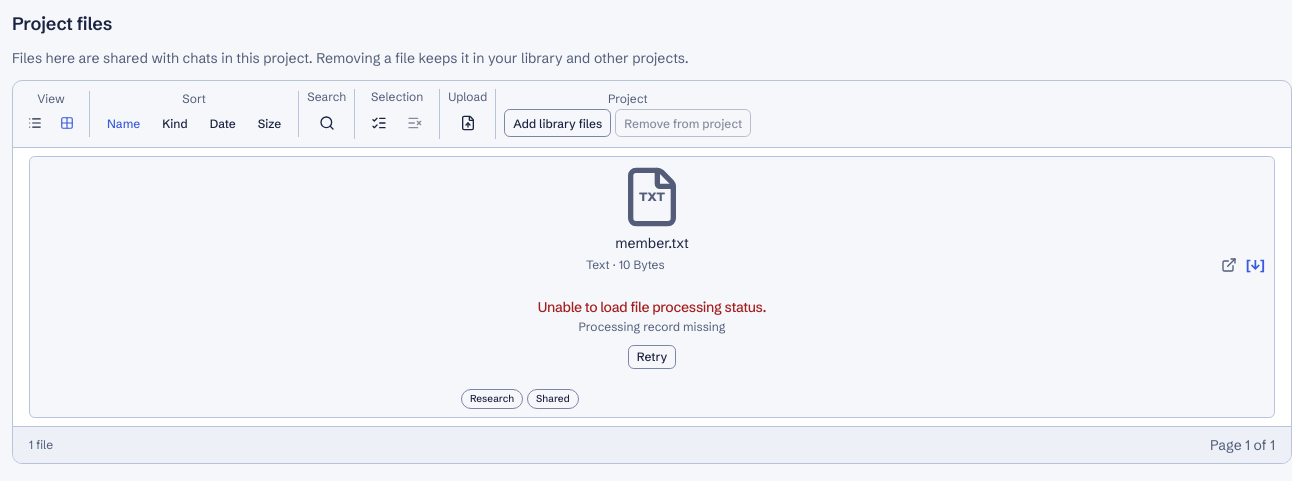
it: preserves project links and removal controls when a processing record is missing
expect the message shows "Unable to load file processing status": met, box [538,298,766,316]
Click the button "member.txt".
click(104, 287)  # box [29,156,1275,418]
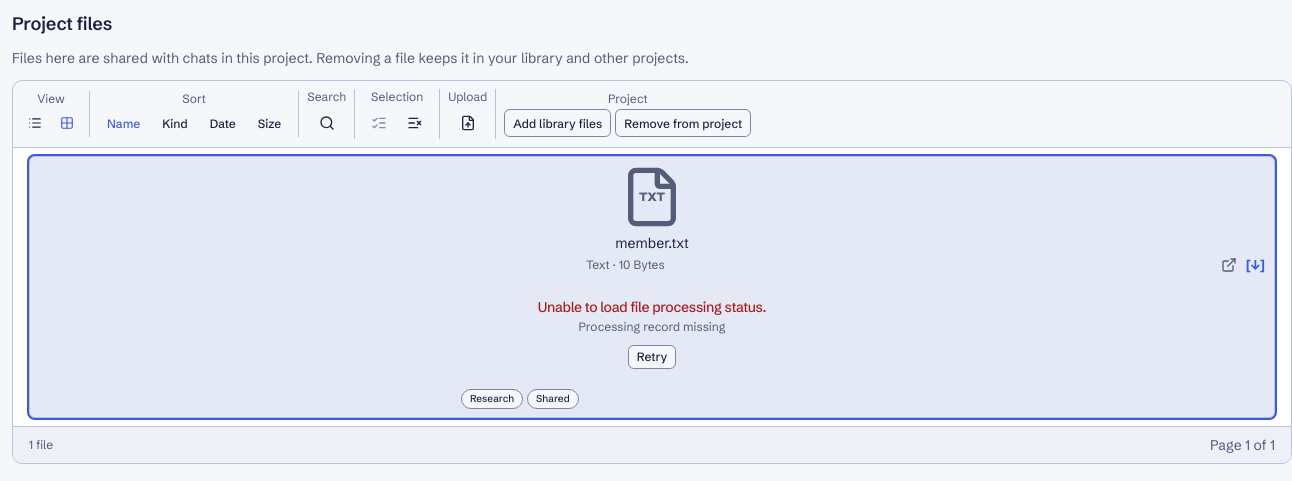
expect the button "Remove from project" is enabled: met, box [615,109,751,137]
